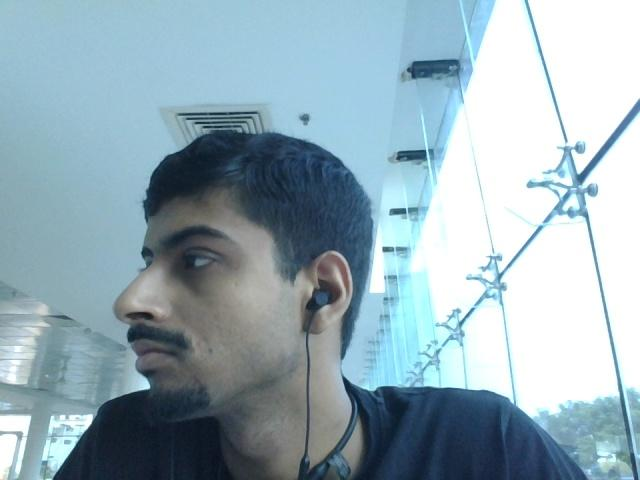average: (110, 124, 394, 430)
